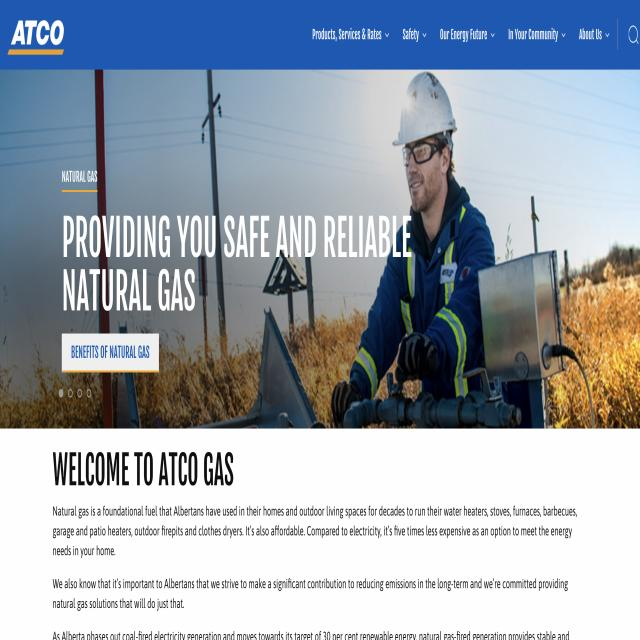Logo: (4, 19, 72, 65)
Navigation: (306, 20, 612, 58)
